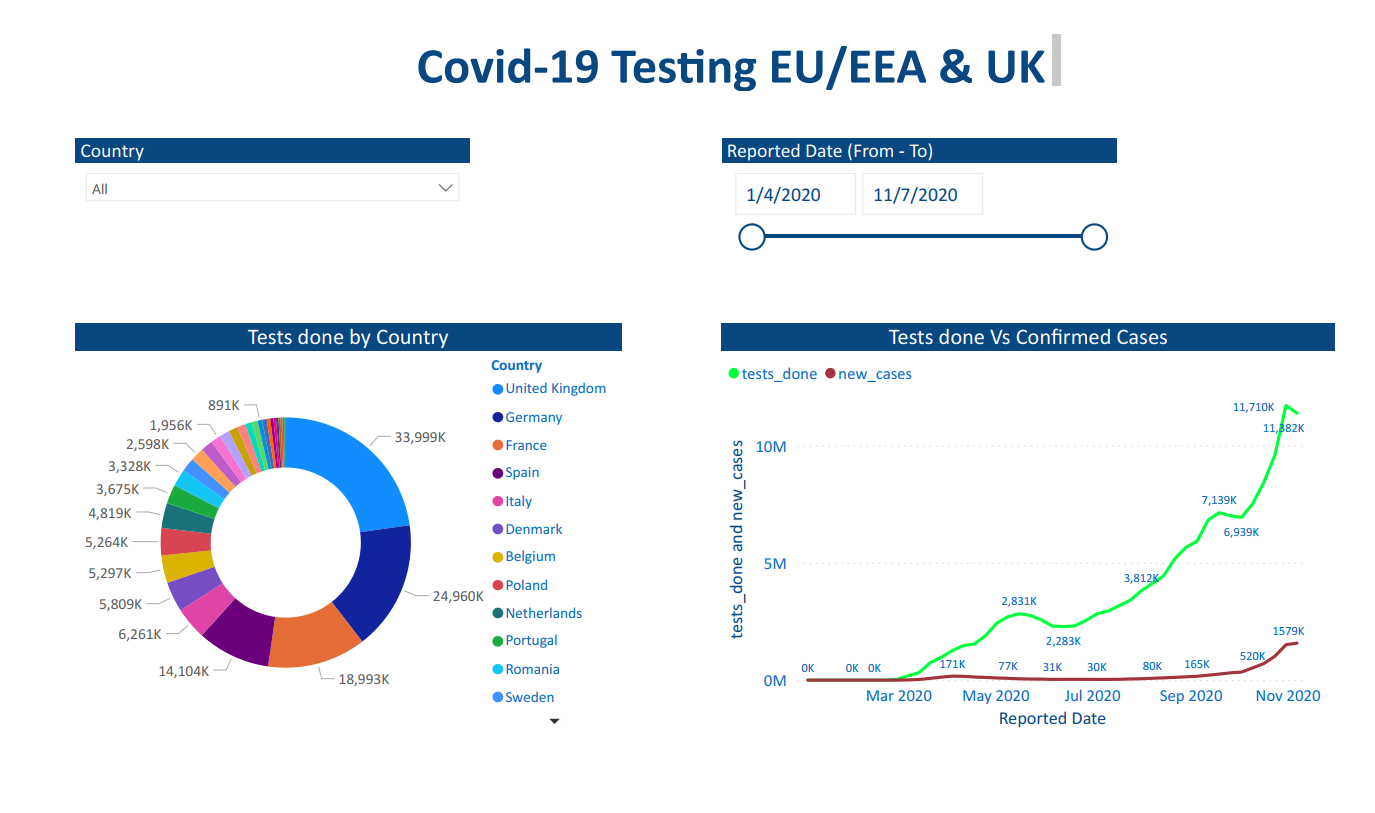

This screenshot's page, from the dashboard's own definition file:
{"tool":"powerbi","page":{"name":"Testing","canvas":[1280,720],"ordinal":2},"visuals":[{"type":"donutChart","title":"Tests done by Country","fields":{"Category":["covid_reporting testing.country"],"Y":["Sum(covid_reporting testing.tests_done)"]},"box":[56,280,520,392],"z":0},{"type":"lineChart","title":"Tests done Vs Confirmed Cases","fields":{"Category":["covid_reporting testing.week_end_date"],"Y":["Sum(covid_reporting testing.tests_done)","Sum(covid_reporting testing.new_cases)"]},"box":[672,280,584,392],"z":1000},{"type":"slicer","title":"Reported Date (From - To)","fields":{"Values":["covid_reporting testing.week_end_date"]},"box":[671.7,104.3,375.7,112],"z":2000},{"type":"slicer","title":"Country","fields":{"Values":["covid_reporting testing.country"]},"box":[56,104.3,375.7,119.7],"z":3000},{"type":"textbox","box":[376,0,624,64],"z":4000}]}

Visuals, with their boxes on the page's 1280x720 design canvas (x1, y1, x2, y2). These are canvas units, not pixel positions in the 1375x813 screenshot, which may show the page scaled, cropped or inside an application window:
"Tests done by Country" donutChart: (left=56, top=280, right=576, bottom=672)
"Tests done Vs Confirmed Cases" lineChart: (left=672, top=280, right=1256, bottom=672)
"Reported Date (From - To)" slicer: (left=672, top=104, right=1047, bottom=216)
"Country" slicer: (left=56, top=104, right=432, bottom=224)
textbox: (left=376, top=0, right=1000, bottom=64)
